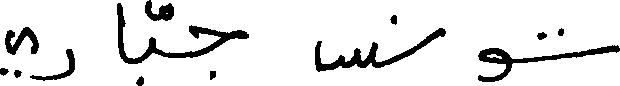X: (190, 20, 246, 84), (316, 36, 374, 76), (0, 22, 35, 83), (37, 35, 72, 85), (480, 43, 508, 85), (118, 0, 121, 85), (149, 0, 153, 60), (610, 40, 619, 57), (437, 23, 444, 42)
